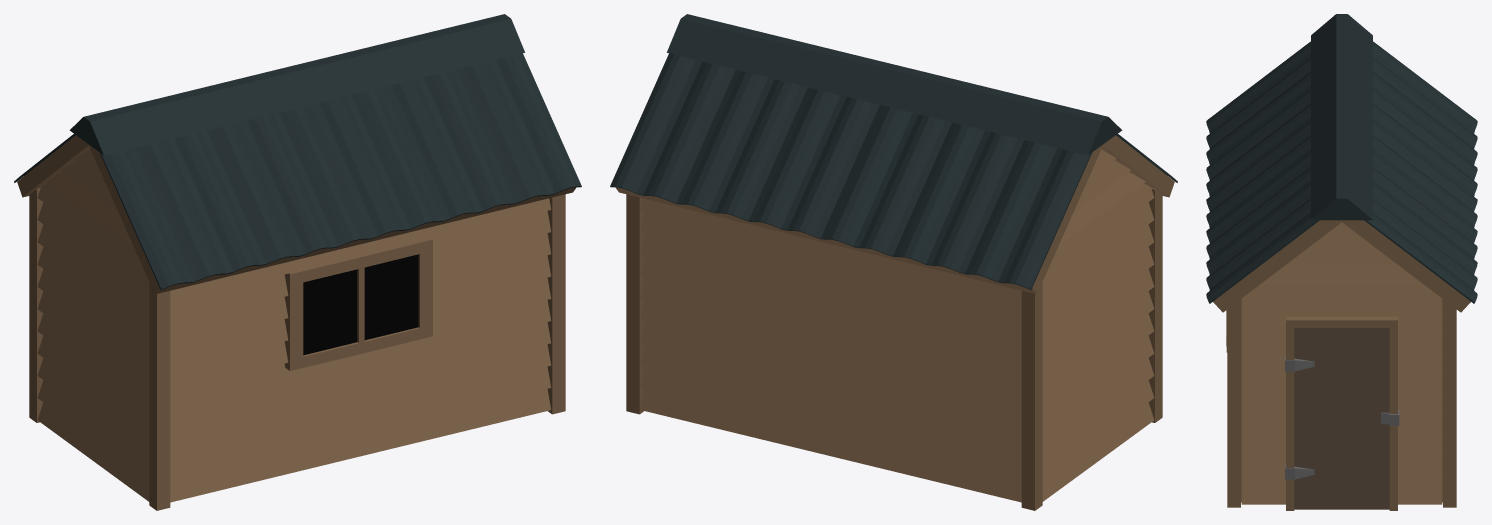
The model's file is Shed But actually good.fbx.
3 renders of one model, left to right at view 1: azimuth 30°, elevation 25°; view 2: azimuth 150°, elevation 25°; view 3: azimuth 270°, elevation 25°, orthographic. The views are drawn at different scales.
Parts seen in each view (by area): view 1: Cube.002, Cube.005, Cube.001, Cube.007, Cube.004, Cube.003, Cube.006; view 2: Cube.002, Cube.005, Cube.001, Cube.007, Cube.003, Cube.006; view 3: Cube.005, Cube.001, Cube.008, Cube.007, Cube.003, Cube.006, Cube.009, Cube.010, Cube.011.
Part boxes in pixels (bbox=[...]): Cube.002: bbox=[170, 198, 551, 502]; Cube.005: bbox=[14, 53, 581, 289]; Cube.001: bbox=[37, 149, 149, 501]; Cube.007: bbox=[69, 14, 524, 155]; Cube.004: bbox=[284, 238, 432, 370]; Cube.003: bbox=[29, 188, 565, 510]; Cube.006: bbox=[17, 135, 576, 294]; Cube.002: bbox=[640, 198, 1021, 502]; Cube.005: bbox=[610, 53, 1177, 289]; Cube.001: bbox=[1042, 149, 1154, 501]; Cube.007: bbox=[667, 14, 1122, 155]; Cube.003: bbox=[626, 188, 1162, 510]; Cube.006: bbox=[615, 135, 1174, 294]; Cube.005: bbox=[1206, 41, 1477, 303]; Cube.001: bbox=[1241, 222, 1442, 504]; Cube.008: bbox=[1294, 328, 1389, 509]; Cube.007: bbox=[1311, 14, 1372, 220]; Cube.003: bbox=[1227, 299, 1456, 507]; Cube.006: bbox=[1213, 220, 1470, 312]; Cube.009: bbox=[1286, 328, 1397, 510]; Cube.010: bbox=[1286, 316, 1397, 327]; Cube.011: bbox=[1285, 356, 1314, 479].
Bounding box in the file's own units: 640 × 1033 × 813.
